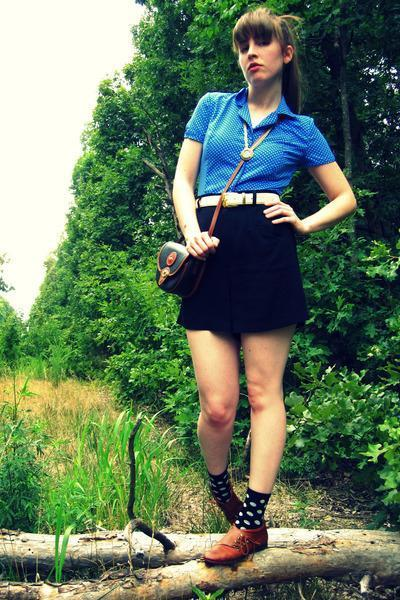bag: (158, 252, 203, 303)
shirt: (184, 81, 335, 205)
shoe: (204, 521, 273, 571)
skirt: (176, 190, 314, 347)
